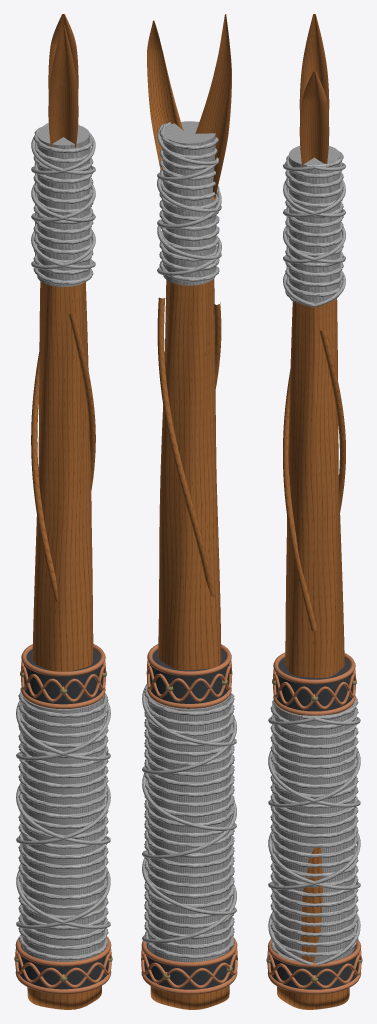
The model's file is teak_wand.glb.
3 renders of one model, left to right at view 1: azimuth 90°, elevation 25°; view 2: azimuth 150°, elevation 25°; view 3: azimuth 270°, elevation 25°, orthographic. The views are drawn at different scales.
Visible parts, largest first — view 1: teak dark hand binding, teak oiled carved wood, teak worn fitting edges, Cindersteel fittings; view 2: teak dark hand binding, teak oiled carved wood, teak worn fitting edges, Cindersteel fittings; view 3: teak dark hand binding, teak oiled carved wood, teak worn fitting edges, Cindersteel fittings.
Boxes of the visible parts, x1,y1,x2,y2 form: teak dark hand binding: (16,123,110,961); teak oiled carved wood: (27,14,101,1009); teak worn fitting edges: (15,644,111,994); Cindersteel fittings: (18,648,108,989); teak dark hand binding: (142,121,236,962); teak oiled carved wood: (147,14,231,1009); teak worn fitting edges: (141,644,237,994); Cindersteel fittings: (144,649,234,989); teak dark hand binding: (268,146,360,965); teak oiled carved wood: (277,14,349,1009); teak worn fitting edges: (267,652,361,994); Cindersteel fittings: (270,657,358,989).
Bounding box in the file's own units: 0.0524 × 0.577 × 0.0522.
5 materials, 2 textured.
